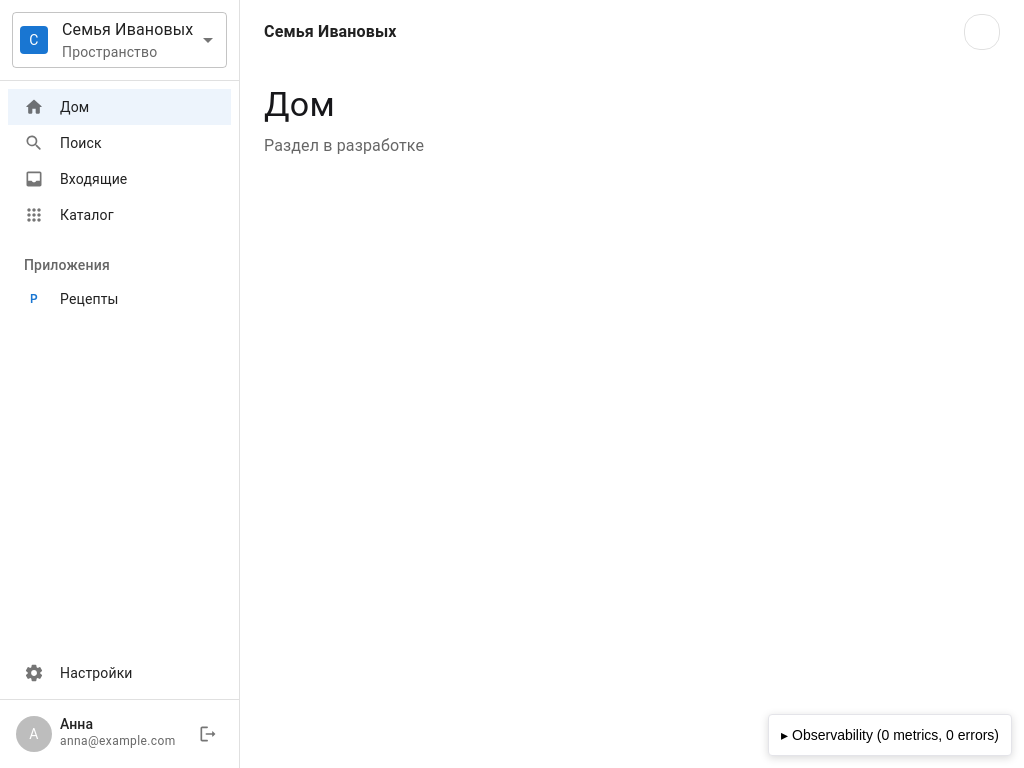
Scenario: SessionGate › logs out through the BFF
The image size is (1024, 768).
Click the button named "Выйти" at (208, 734), box [193, 719, 223, 749]
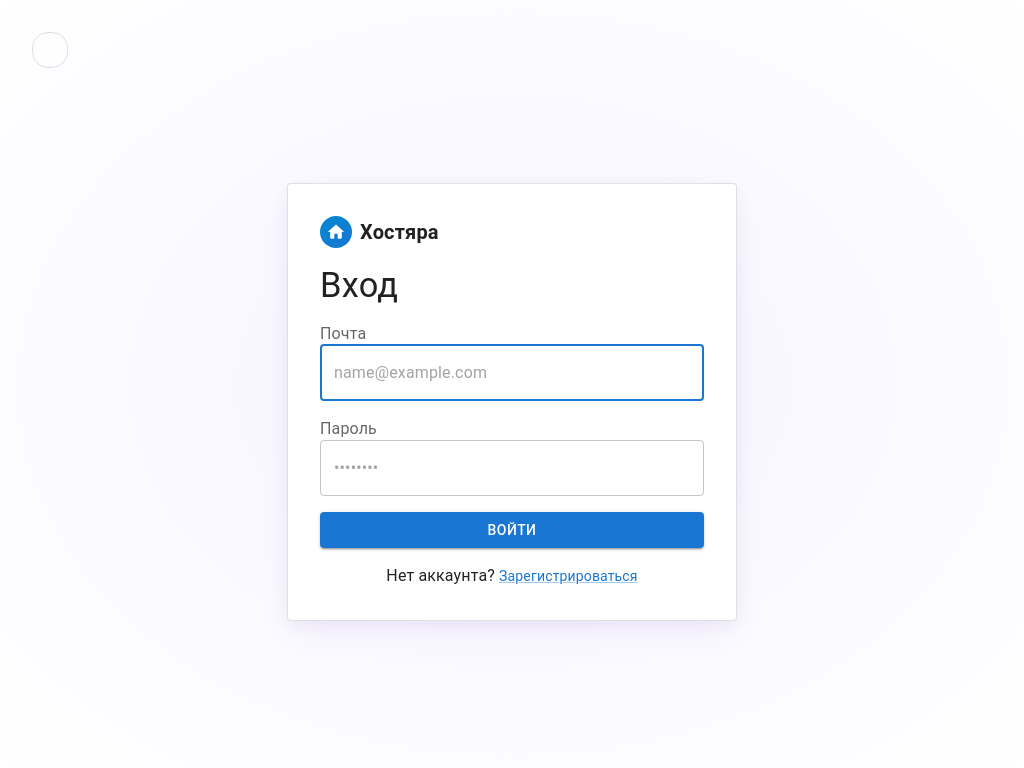
Now the heading "Вход" is shown, box [320, 264, 398, 304]
